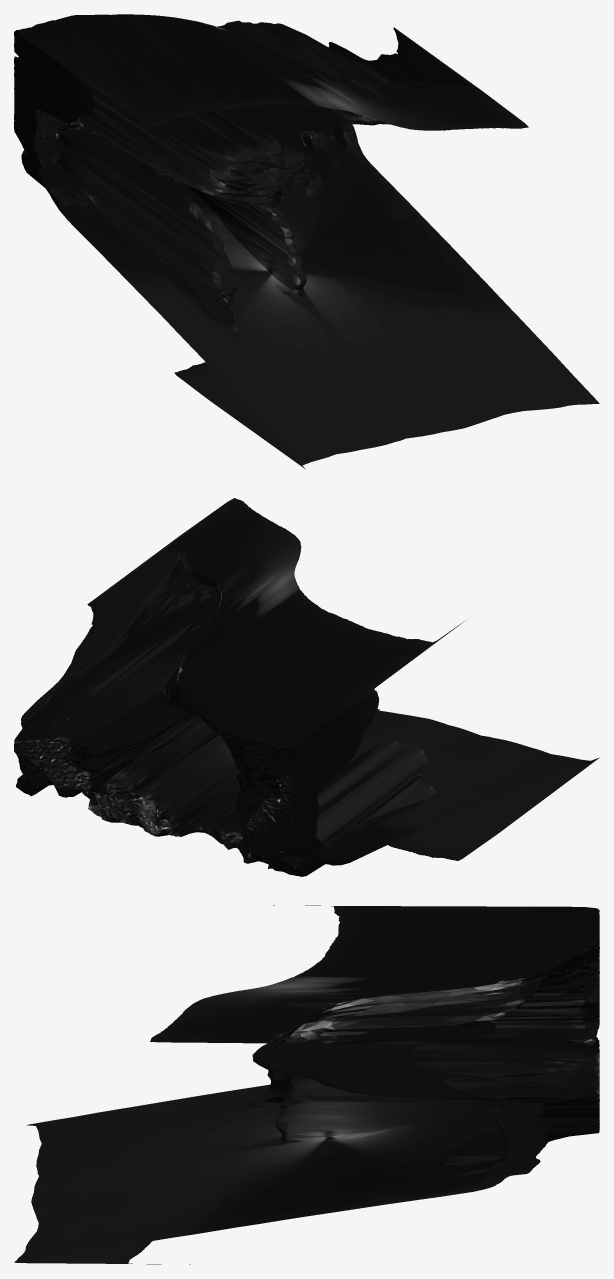
The model's file is artifact.glb.
3 views of the same model, one above another, from view 1: azimuth 30°, elevation 25°; view 2: azimuth 150°, elevation 25°; view 3: azimuth 270°, elevation 25° (orthographic). The views are drawn at different scales.
Visible parts, largest first — view 1: Grid; view 2: Grid; view 3: Grid.
Boxes of the visible parts, x1,y1,x2,y2 form: Grid: (14, 14, 599, 469); Grid: (14, 498, 599, 876); Grid: (14, 905, 599, 1264).
Bounding box in the file's own units: 2.67 × 2 × 4.79.
1 material, 1 textured.
